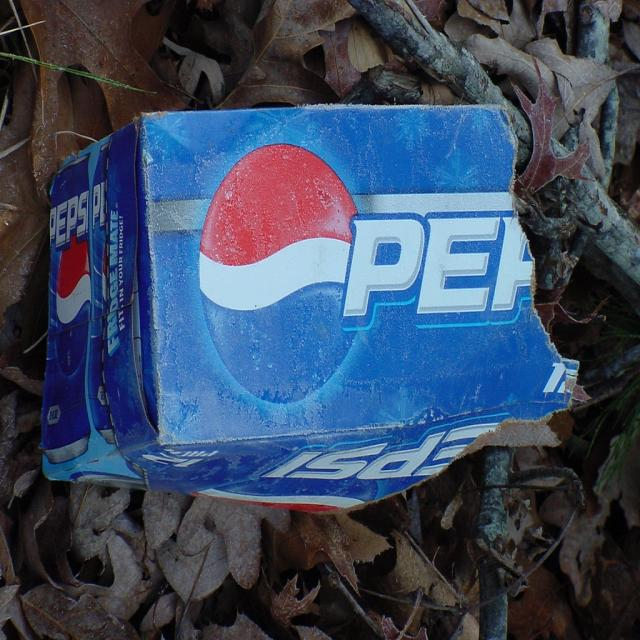pepsi: (194, 136, 356, 408), (54, 237, 93, 379)
